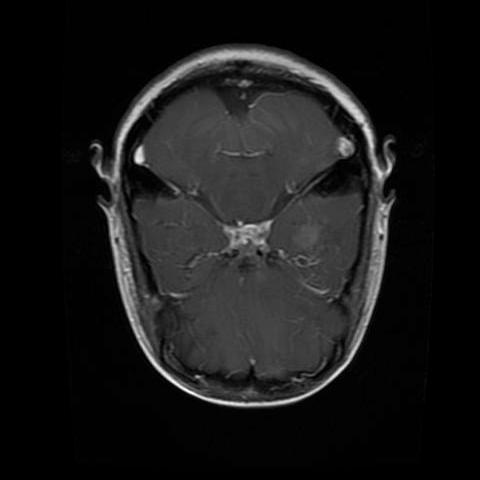Tumour-Glioma: (284, 211, 337, 273)
